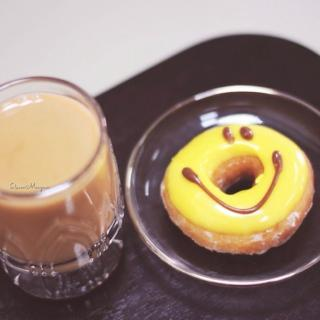Doughnut: (158, 123, 314, 256)
